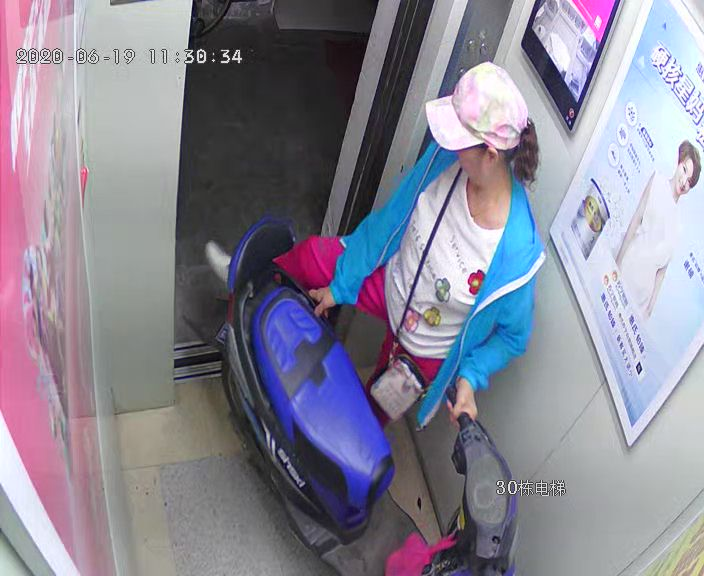Electric-bicycle: (223, 220, 523, 576)
